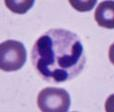N: (32, 27, 87, 83)
